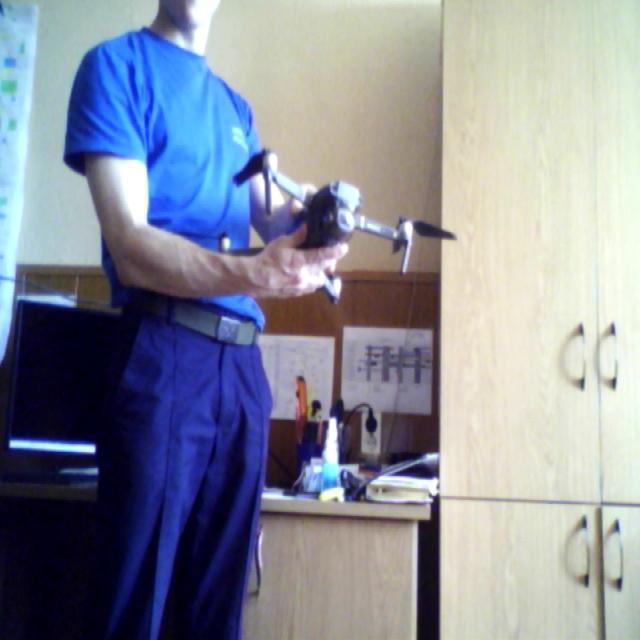drone: (224, 126, 474, 309)
